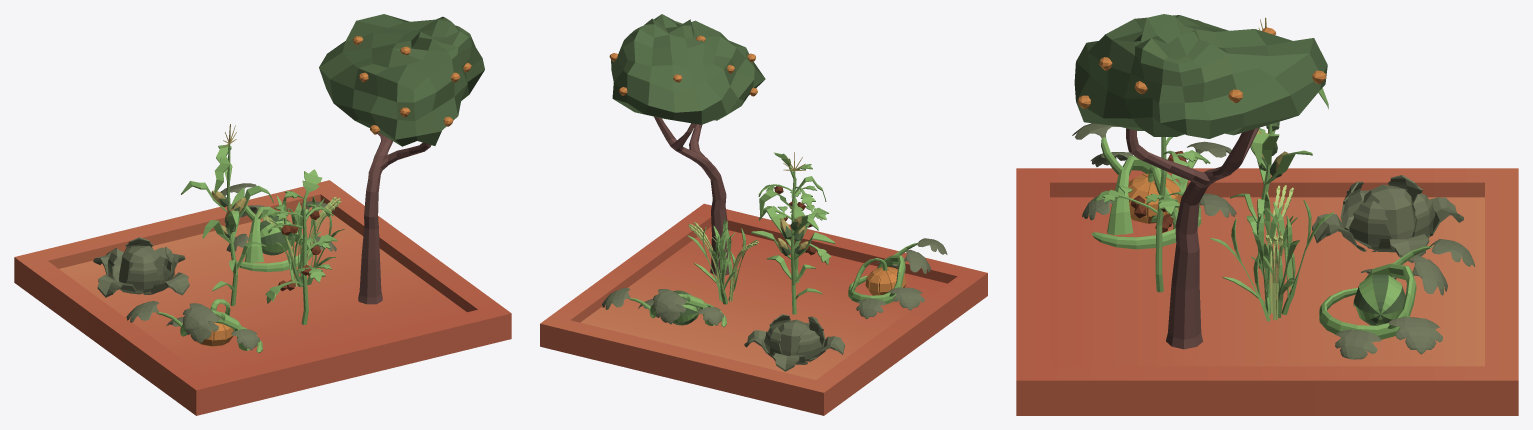
The model's file is garden.glb.
3 renders of one model, left to right at view 1: azimuth 30°, elevation 25°; view 2: azimuth 150°, elevation 25°; view 3: azimuth 270°, elevation 25°, orthographic. The views are drawn at different scales.
Visible parts, largest first — view 1: Garden; view 2: Garden; view 3: Garden.
Part boxes in pixels (bbox=[...]): Garden: bbox=[14, 14, 511, 415]; Garden: bbox=[540, 14, 987, 415]; Garden: bbox=[1016, 14, 1518, 415].
Bounding box in the file's own units: 0.765 × 0.5827 × 0.6929.
Materials: 18 (1 with a texture image).
